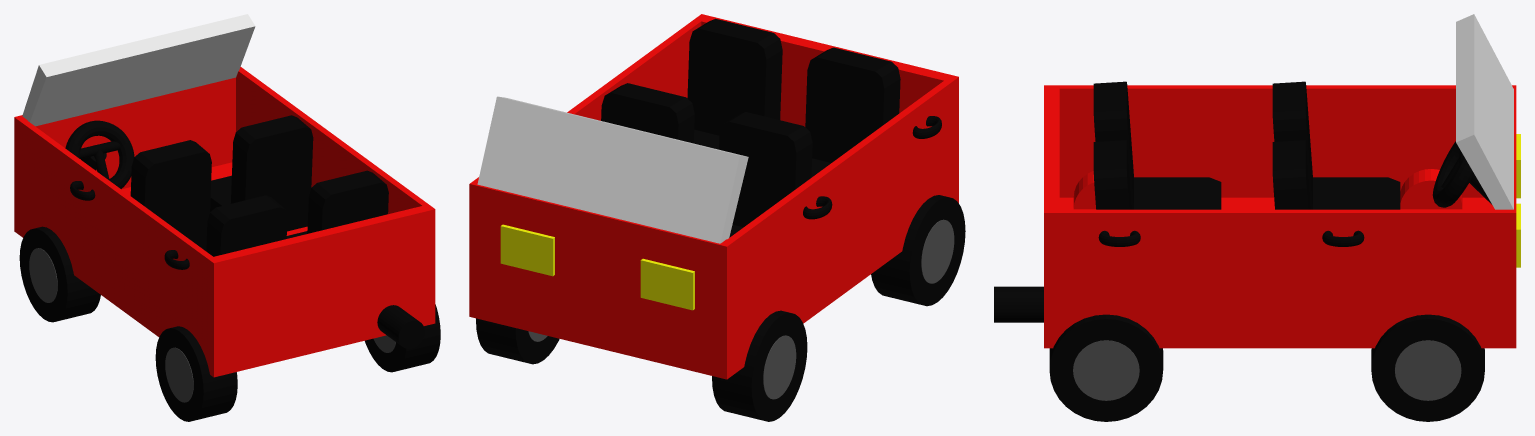
File: car.fbx
The picture shows the model from 3 angles, left to right: view 1: azimuth 30°, elevation 25°; view 2: azimuth 150°, elevation 25°; view 3: azimuth 270°, elevation 25°; orthographic projection. The views are drawn at different scales.
Parts seen in each view (by area): view 1: Cawossewie, PaweBwize, Seat, Seat.001, Wheel.002, Wheel.003, Seat.003, Seat.002, Twin, Wheel.001, EchapmentPawt; view 2: Cawossewie, PaweBwize, Seat.003, Seat.002, Seat.001, Wheel.003, Wheel.002, Seat, Wheel, Light, Light.001; view 3: Cawossewie, Wheel.001, Wheel, PaweBwize, Seat.001, Seat.002, Seat.003, Seat, EchapmentPawt, Twin, WheelCover.002, WheelCover.003 (+2 smaller).
Part boxes in pixels (x1,y1,x2,y2): Cawossewie: (14, 67, 435, 377); PaweBwize: (22, 14, 255, 126); Seat: (210, 115, 313, 231); Seat.001: (130, 140, 211, 250); Wheel.002: (155, 326, 237, 421); Wheel.003: (19, 226, 100, 322); Seat.003: (286, 170, 388, 238); Seat.002: (206, 195, 287, 256); Twin: (65, 120, 134, 188); Wheel.001: (365, 304, 440, 372); EchapmentPawt: (377, 305, 424, 348); Cawossewie: (469, 14, 958, 379); PaweBwize: (477, 96, 748, 243); Seat.003: (687, 18, 782, 149); Seat.002: (805, 47, 900, 177); Seat.001: (719, 112, 812, 237); Wheel.003: (712, 310, 807, 421); Wheel.002: (871, 195, 965, 306); Seat: (601, 83, 694, 143); Wheel: (476, 318, 559, 364); Light: (500, 224, 554, 276); Light.001: (640, 258, 694, 310); Cawossewie: (1044, 85, 1516, 348); Wheel.001: (1049, 314, 1163, 421); Wheel: (1371, 314, 1484, 421); PaweBwize: (1456, 14, 1513, 209); Seat.001: (1272, 81, 1400, 209); Seat.002: (1093, 81, 1221, 209); Seat.003: (1093, 140, 1131, 209); Seat: (1272, 140, 1310, 209); EchapmentPawt: (994, 286, 1043, 322); Twin: (1432, 141, 1473, 207); WheelCover.002: (1400, 169, 1462, 209); WheelCover.003: (1073, 171, 1095, 209).
Bounding box in the file's own units: 1082 × 984 × 1681.
